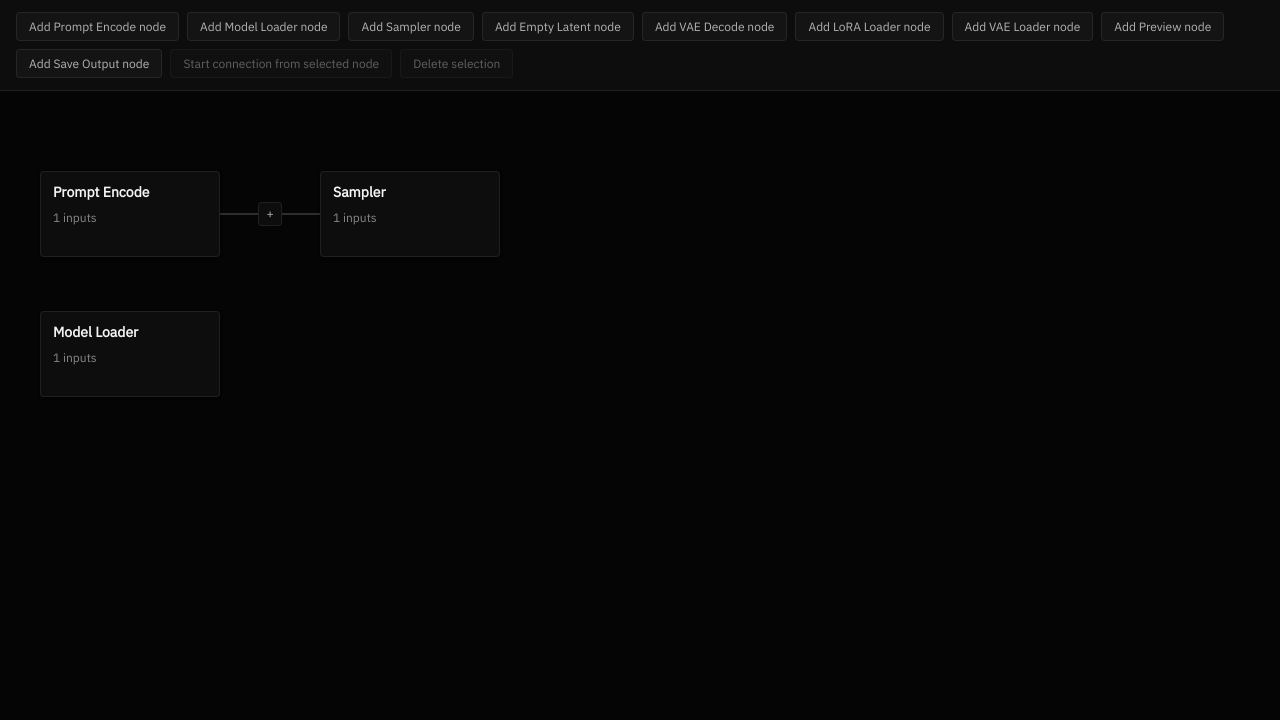
WorkflowGraphEditor › selects a node and shows inspector details
This screenshot has width=1280, height=720.
Click the button with aria-label "Sampler node" at (410, 214), box [320,171,500,257]
(page scrolled)
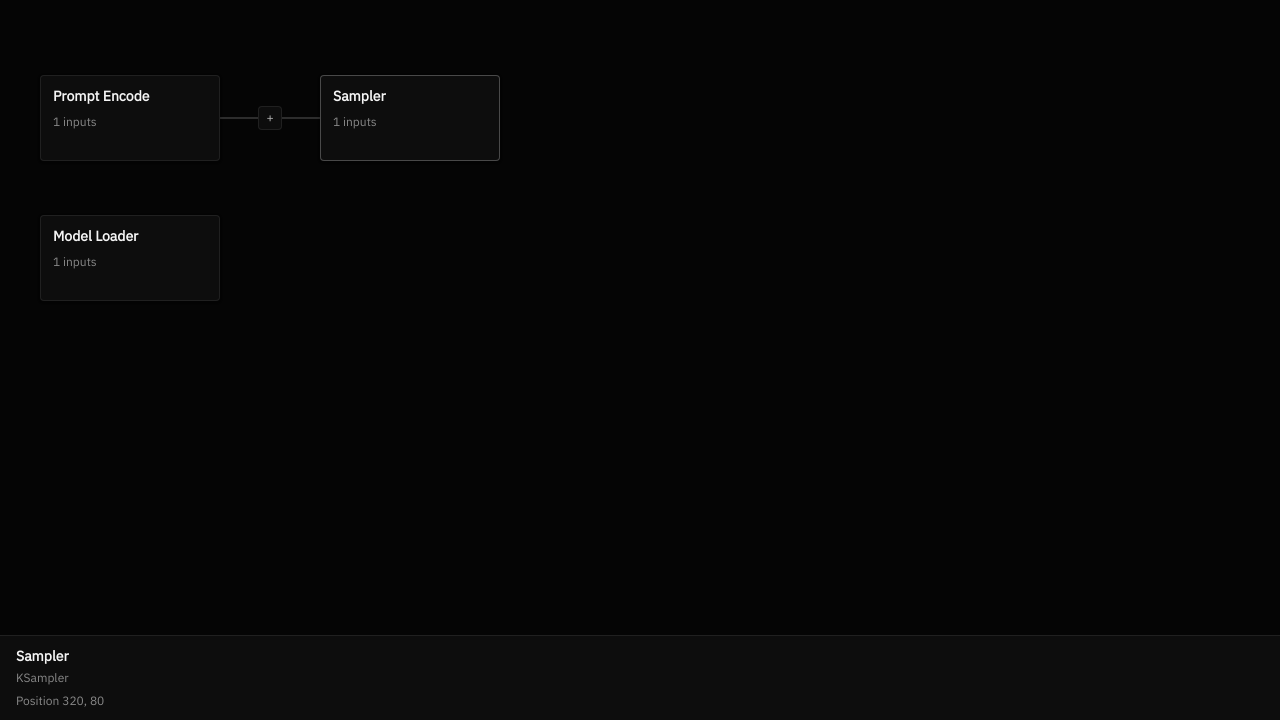
Result: the heading "Sampler" is shown at [16,647,69,665]
Result: the text "KSampler" is shown at [16,670,69,684]
